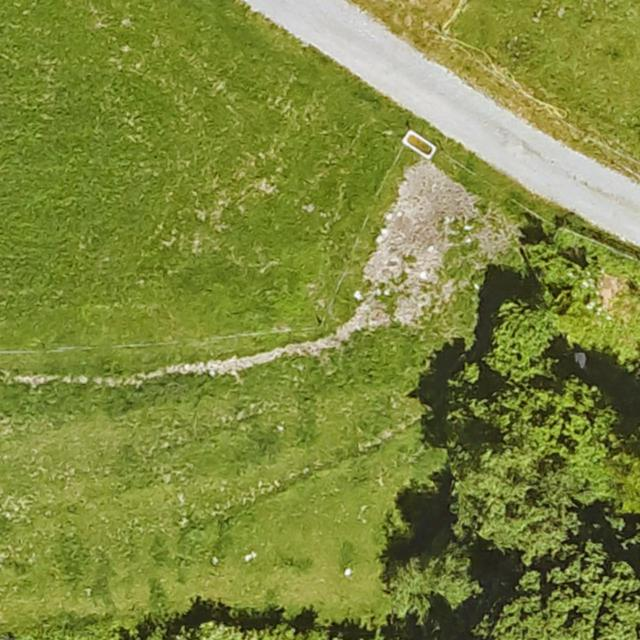tree: (448, 368, 618, 558), (468, 546, 640, 640), (390, 542, 483, 611), (487, 301, 552, 373), (181, 621, 343, 640)
